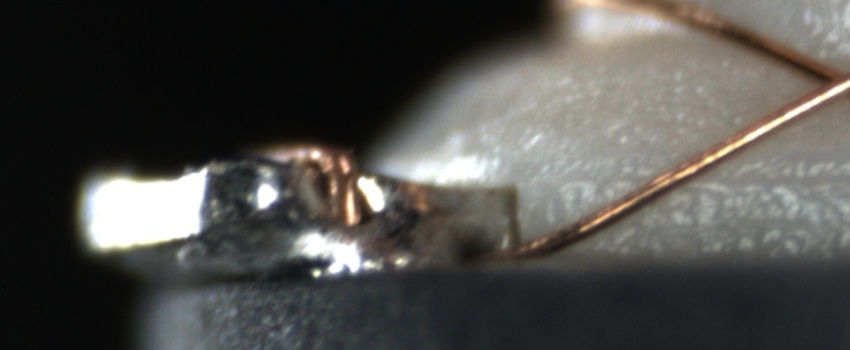CL: (791, 49, 849, 107)
DL: (572, 147, 850, 209)
TE: (262, 136, 374, 229)
